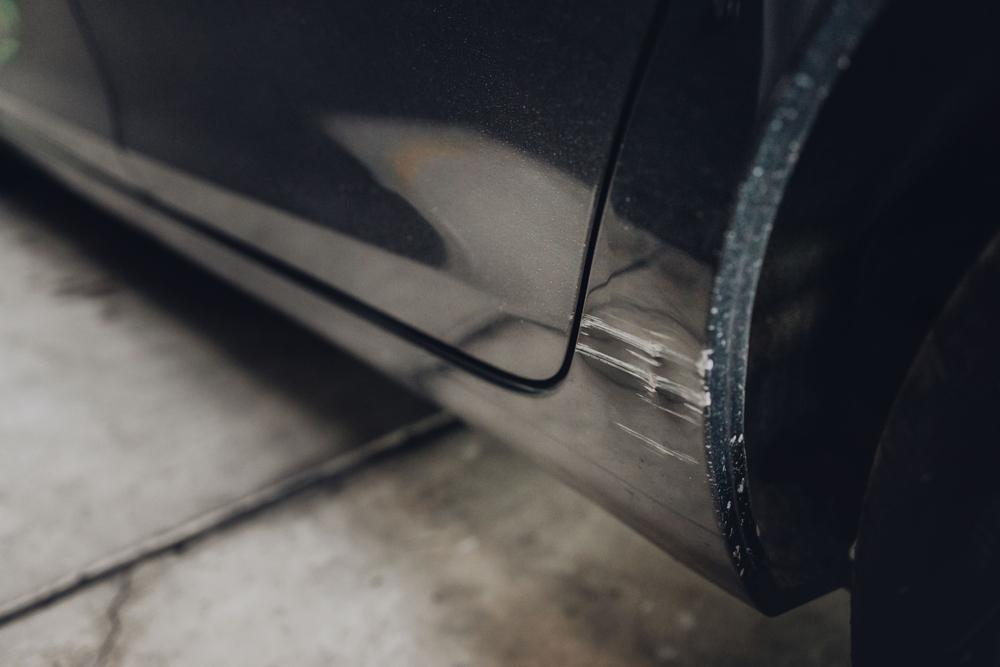scratch: (571, 307, 718, 472)
